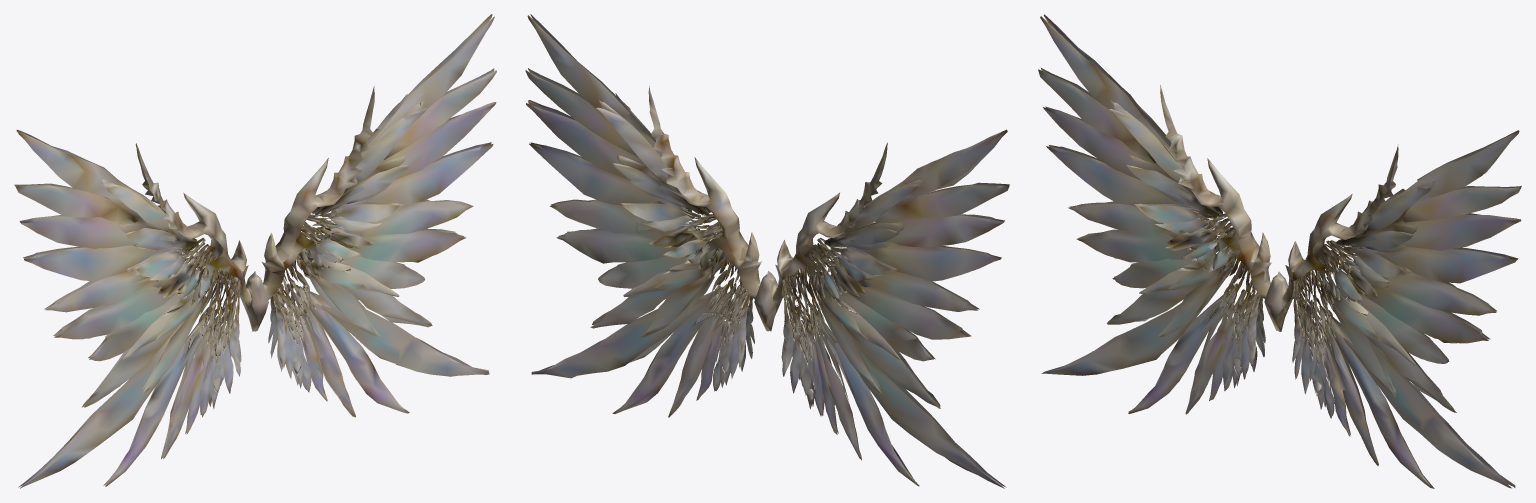
The model's file is kanat_ibris.glb.
The picture shows the model from 3 angles, left to right: view 1: azimuth 30°, elevation 25°; view 2: azimuth 150°, elevation 25°; view 3: azimuth 330°, elevation 25°; orthographic projection.
Parts seen in each view (by area): view 1: sol, sag; view 2: sol, sag; view 3: sol, sag.
Part boxes in pixels (bbox=[...]): sol: bbox=[248, 14, 496, 417]; sag: bbox=[14, 130, 261, 488]; sol: bbox=[525, 14, 774, 417]; sag: bbox=[762, 129, 1009, 488]; sol: bbox=[1272, 130, 1521, 488]; sag: bbox=[1038, 14, 1280, 414].
Size of the model in its own units: 1.1 by 0.8271 by 0.0908.
